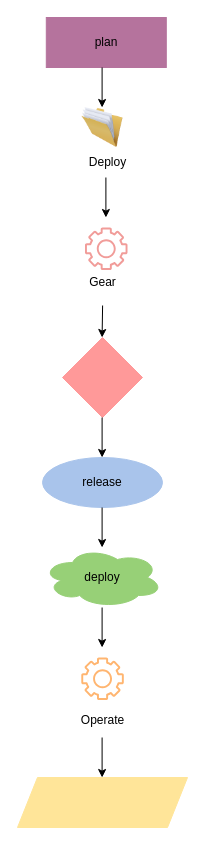
Image size: 205x845. Some labels were removed from this diagram. The shapes that lost their labels are listed below. From the top down, each one's centre as x and y in pixels, then its label:
At pixel 102 377: "test".
At pixel 102 802: "monitor".
